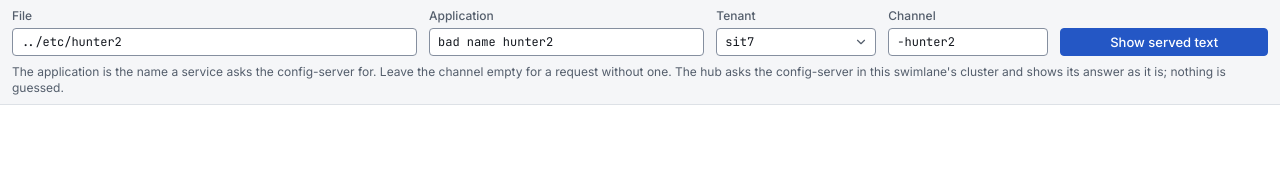
Test: a form that cannot be sent › says what a path, a name or a channel must look like, and never repeats what was typed
Click the button "Show served text": (1164, 42) [1060,28,1268,56]
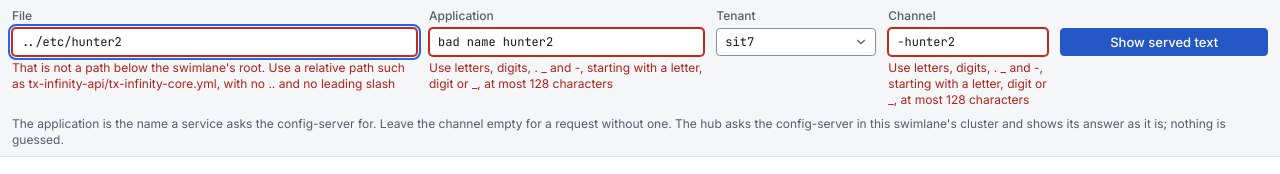
Now the text "not a path below the swimlane's root" is shown, box [12,60,405,91]
Now the text "letters, digits" is shown 2 times, box [429,60,704,92]; [888,60,1048,108]
